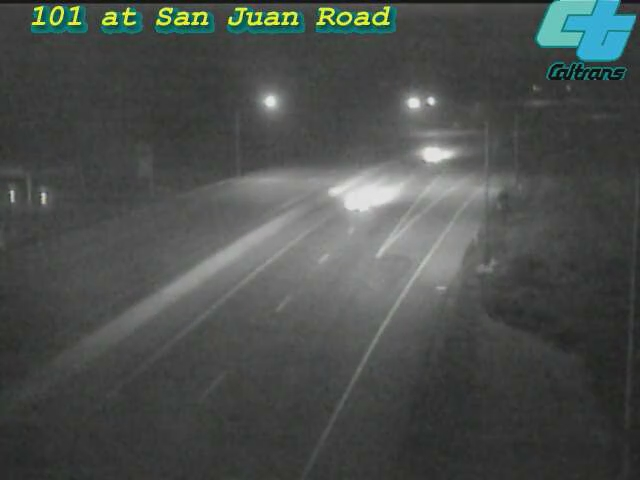vehicle: (392, 112, 472, 192), (317, 164, 397, 244)
